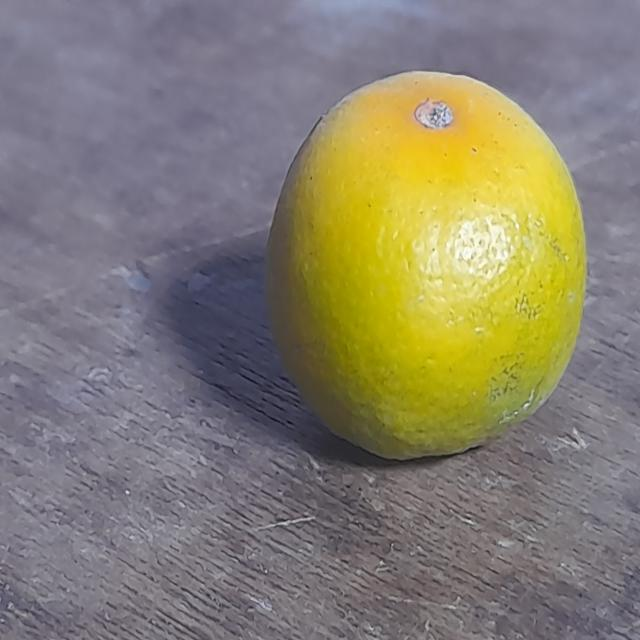greening: (266, 70, 596, 477)
